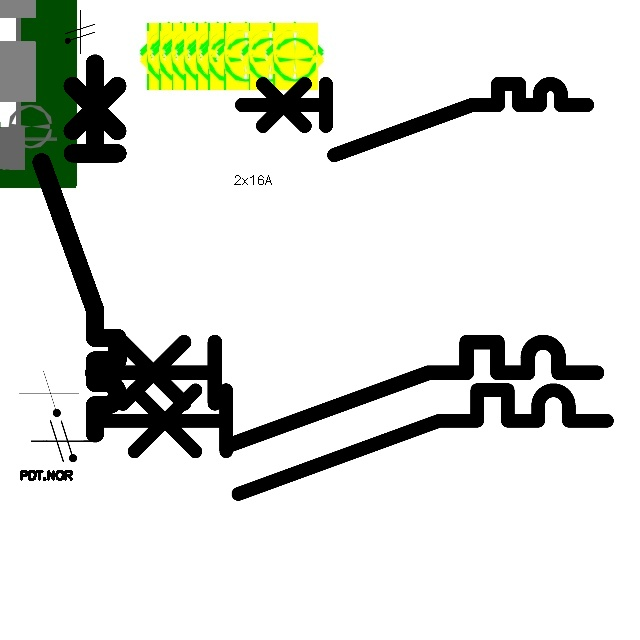interruptor_termomagnetico: (79, 329, 610, 459), (90, 377, 619, 506), (32, 53, 127, 442), (233, 75, 596, 164)
